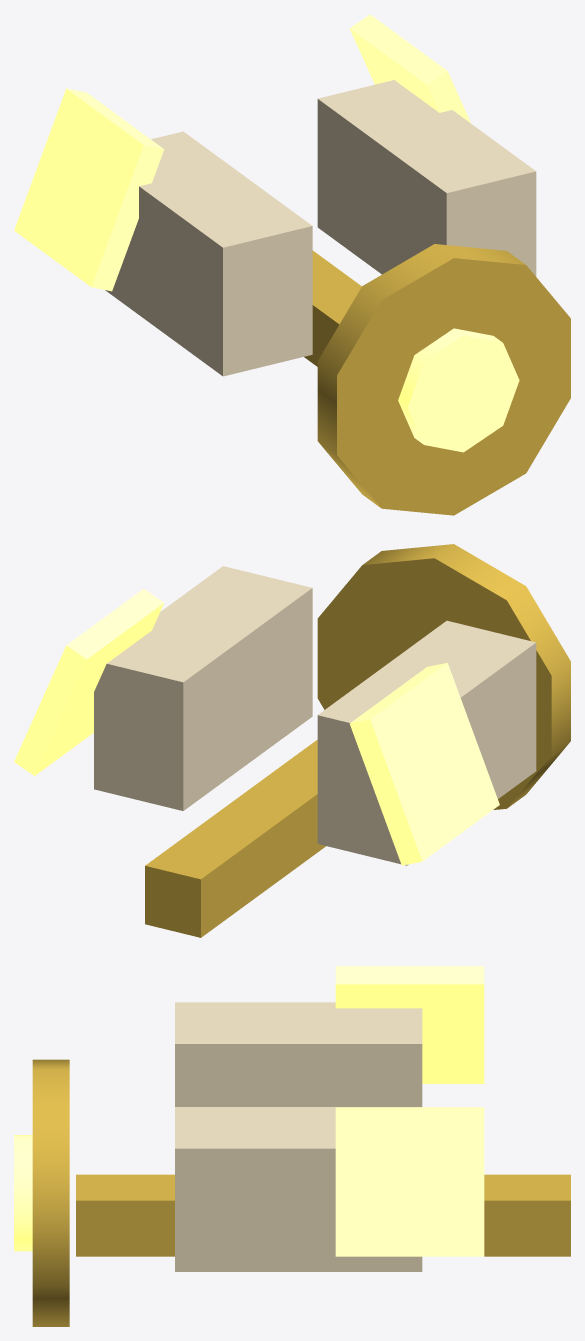
The model's file is fw_ren2.glb.
3 renders of one model, top to bottom at view 1: azimuth 30°, elevation 25°; view 2: azimuth 150°, elevation 25°; view 3: azimuth 270°, elevation 25°, orthographic. The views are drawn at different scales.
Visible parts, largest first — view 1: fw_ren2; view 2: fw_ren2; view 3: fw_ren2.
Part boxes in pixels (left/top/right/bottom): fw_ren2: left=14, top=14, right=570, bottom=515; fw_ren2: left=14, top=544, right=570, bottom=937; fw_ren2: left=14, top=966, right=570, bottom=1326.
Bounding box in the file's own units: 0.3652 × 0.2492 × 0.45.
